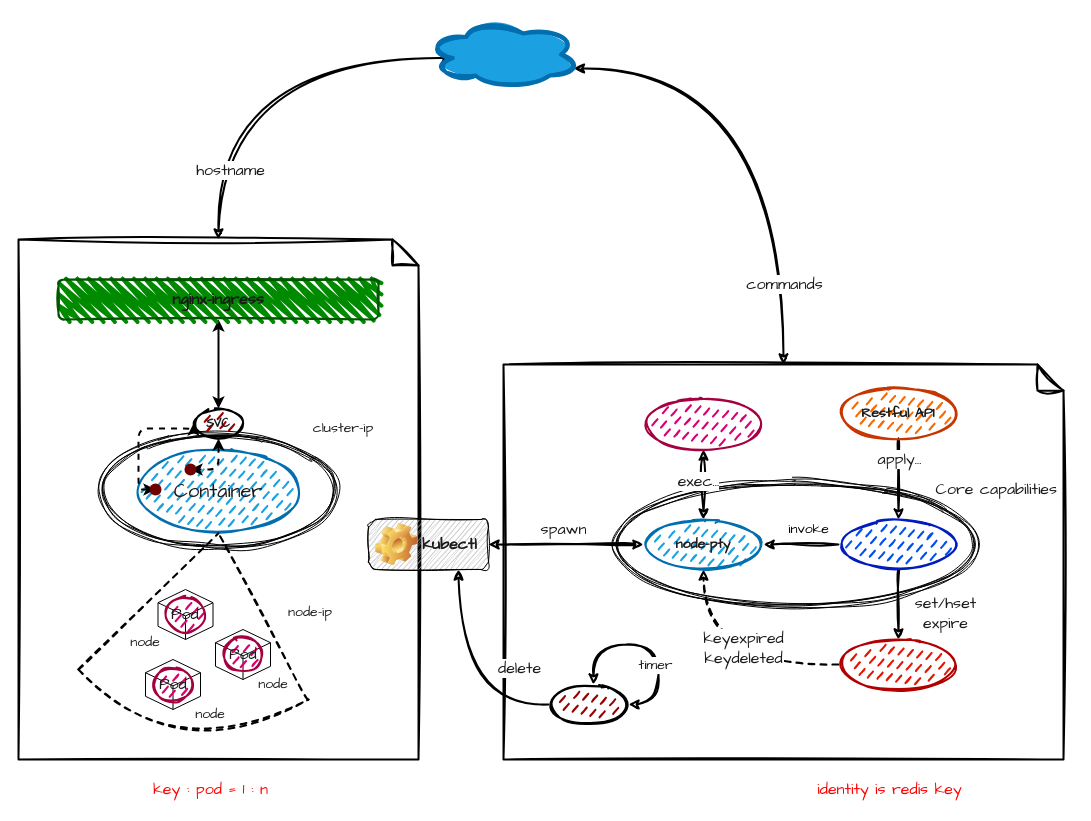
This 1091x821 diagram has some shape labels left out. The centre of each missing label's shape, as x and y in pixels:
"handlers..." belongs at pixel 898 544.
"Internet" belongs at pixel 504 54.
"Redis" belongs at pixel 898 664.
"script" belongs at pixel 588 704.
"WebSocket" belongs at pixel 703 424.
